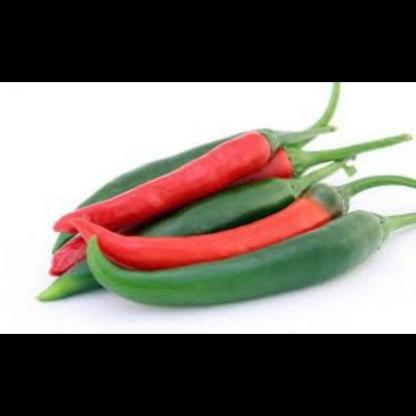hot pepper: (26, 81, 416, 310)
